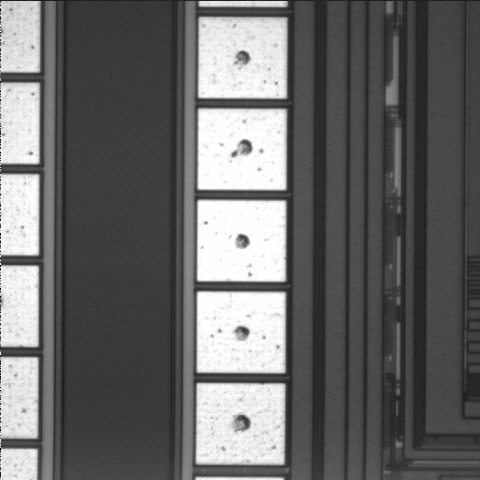pad: (198, 17, 287, 99), (197, 200, 286, 282), (197, 291, 286, 373), (196, 383, 285, 465), (198, 109, 287, 190)
